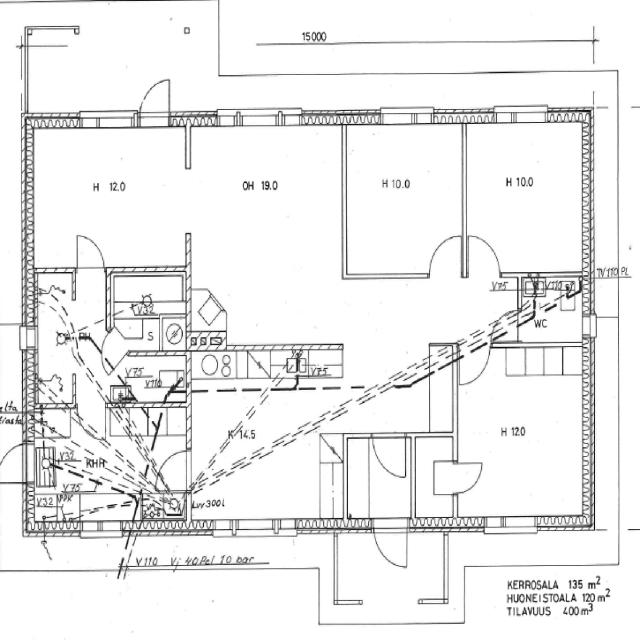door: (372, 517, 411, 572), (370, 432, 411, 482), (465, 229, 505, 278), (425, 230, 464, 280), (136, 74, 174, 124), (71, 229, 110, 274), (0, 440, 29, 485), (452, 457, 486, 495)
window: (76, 106, 138, 130), (233, 107, 294, 129), (482, 513, 540, 536), (379, 106, 436, 126), (493, 105, 549, 125), (233, 518, 280, 537), (314, 381, 344, 392), (205, 386, 220, 397)
zone: (454, 344, 592, 522), (25, 125, 190, 263), (462, 115, 592, 277), (342, 119, 465, 279), (28, 398, 188, 506), (32, 278, 106, 410), (106, 338, 188, 403), (521, 283, 587, 343), (411, 440, 455, 526), (109, 274, 188, 318), (79, 489, 134, 529), (300, 347, 344, 382), (139, 493, 186, 524)
